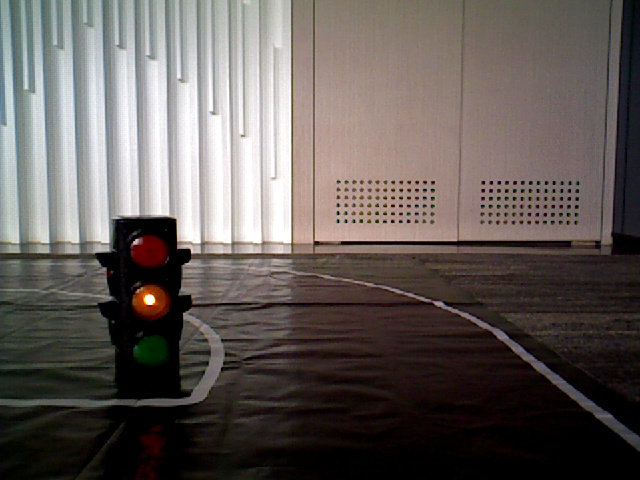yellow: (115, 220, 175, 386)
